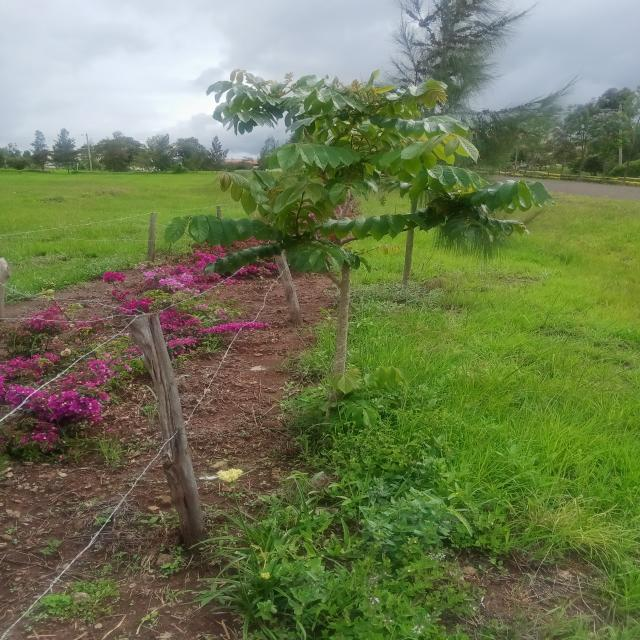Polyscias Kikuyensis: (159, 53, 554, 418)
